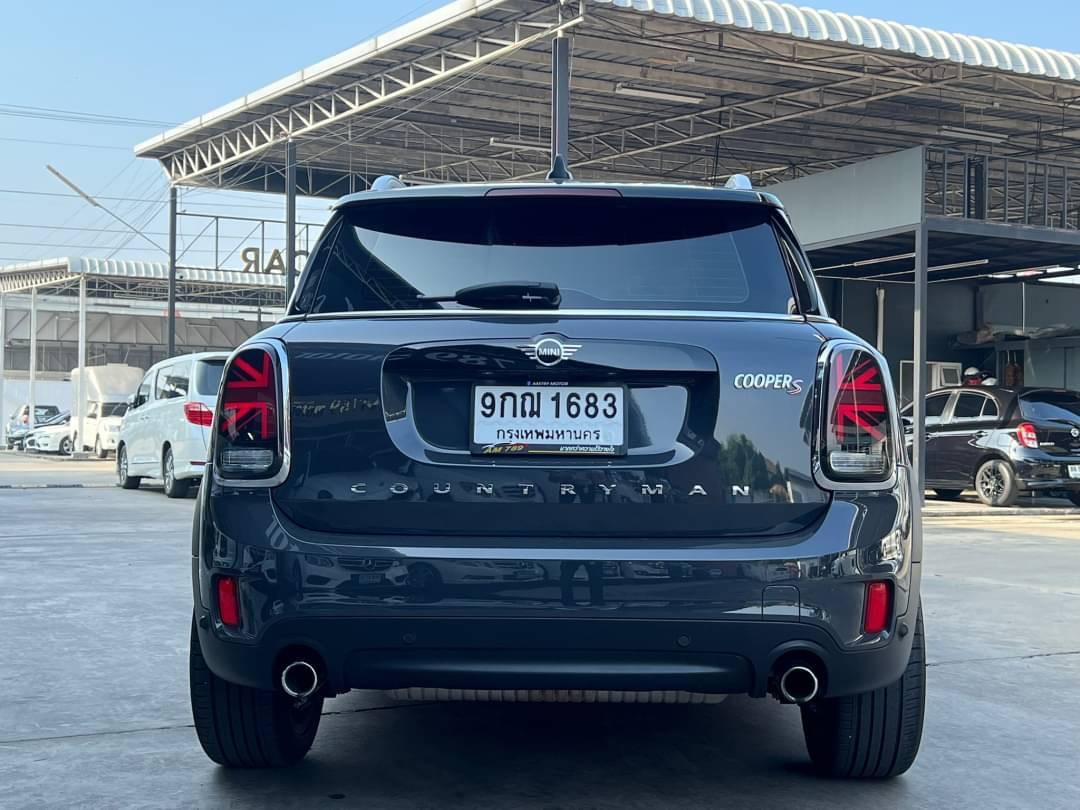license-plate: (468, 375, 626, 457)
